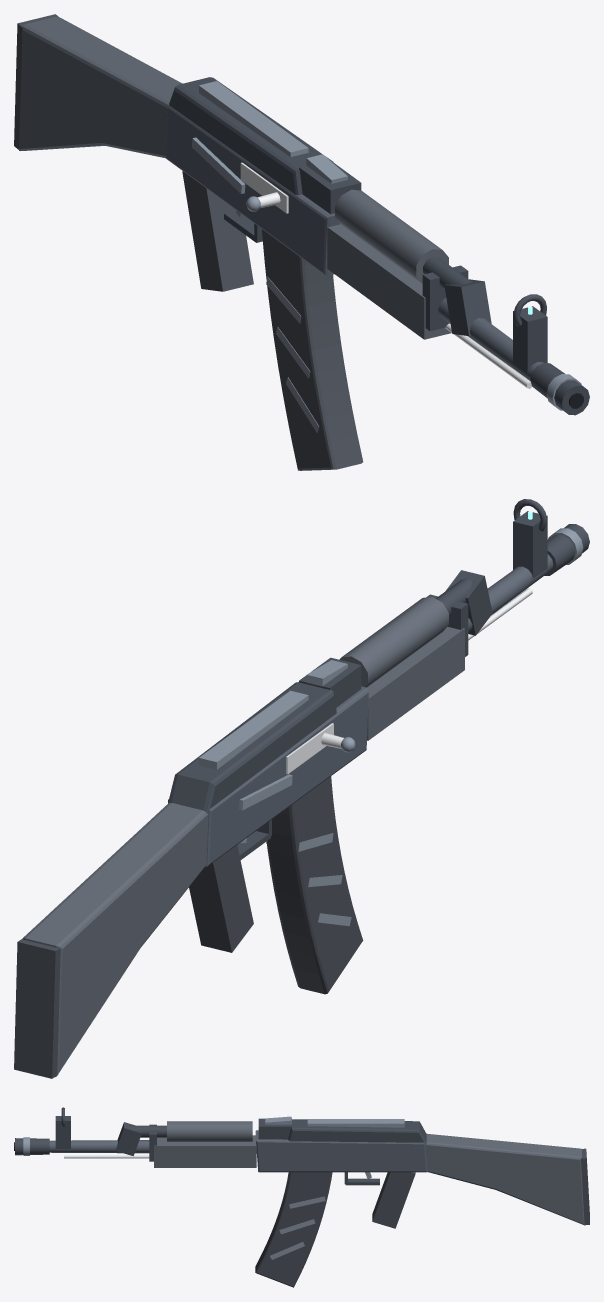
File: weapon_rifle_tactical.glb
3 renders of one model, top to bottom at view 1: azimuth 30°, elevation 25°; view 2: azimuth 150°, elevation 25°; view 3: azimuth 270°, elevation 25°, orthographic. The views are drawn at different scales.
Parts seen in each view (by area): view 1: Weapon_rifle, RifleStock, magazine, RifleReceiver, slide; view 2: Weapon_rifle, RifleStock, magazine, RifleReceiver, slide; view 3: Weapon_rifle, RifleStock, RifleReceiver, magazine.
Boxes of the visible parts, <box> form: Weapon_rifle: <box>14,14,589,415</box>; RifleStock: <box>19,16,182,158</box>; magazine: <box>262,229,363,470</box>; RifleReceiver: <box>166,104,340,275</box>; slide: <box>240,162,288,213</box>; Weapon_rifle: <box>14,499,589,1078</box>; RifleStock: <box>22,803,208,1076</box>; magazine: <box>266,776,363,994</box>; RifleReceiver: <box>168,686,368,866</box>; slide: <box>286,723,355,774</box>; Weapon_rifle: <box>14,1107,589,1228</box>; RifleStock: <box>425,1134,585,1225</box>; RifleReceiver: <box>255,1130,427,1172</box>; magazine: <box>255,1172,332,1287</box>.
Bounding box in the file's own units: 0.0835 × 0.3504 × 1.04.
